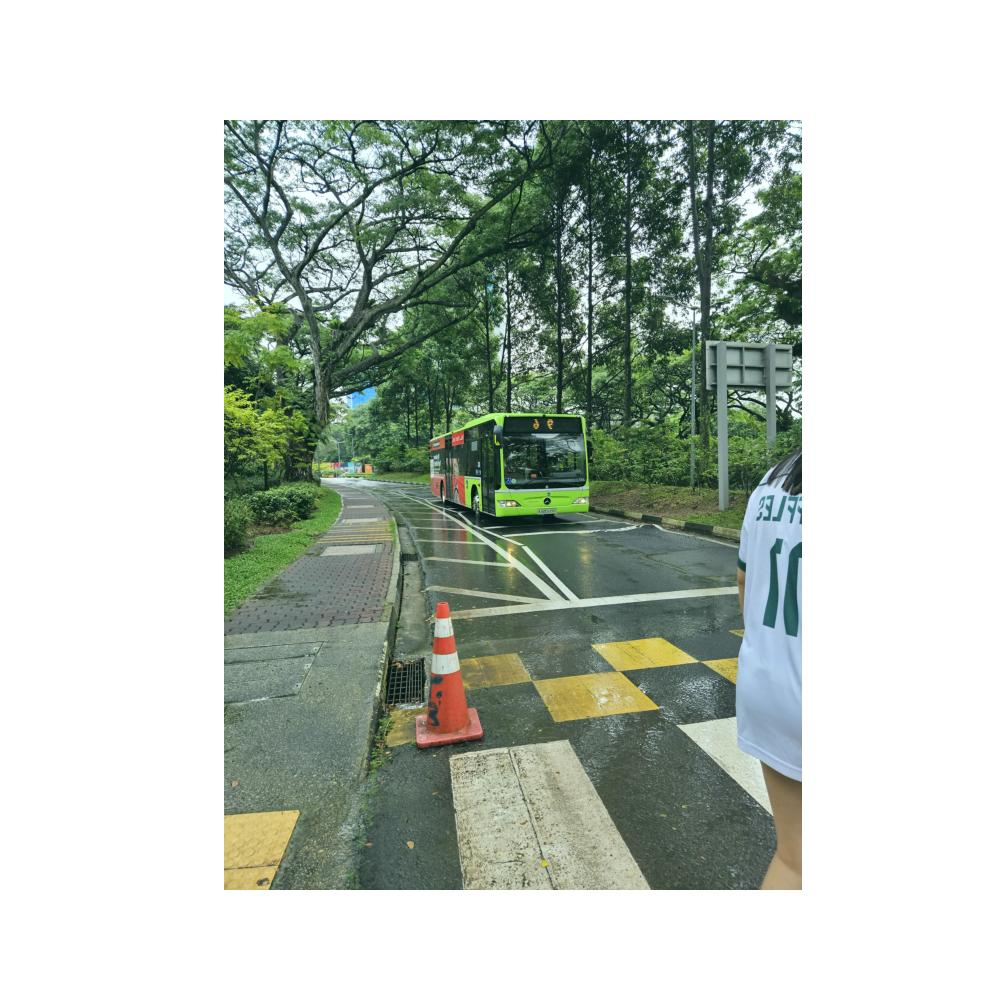bus: (422, 413, 597, 527)
